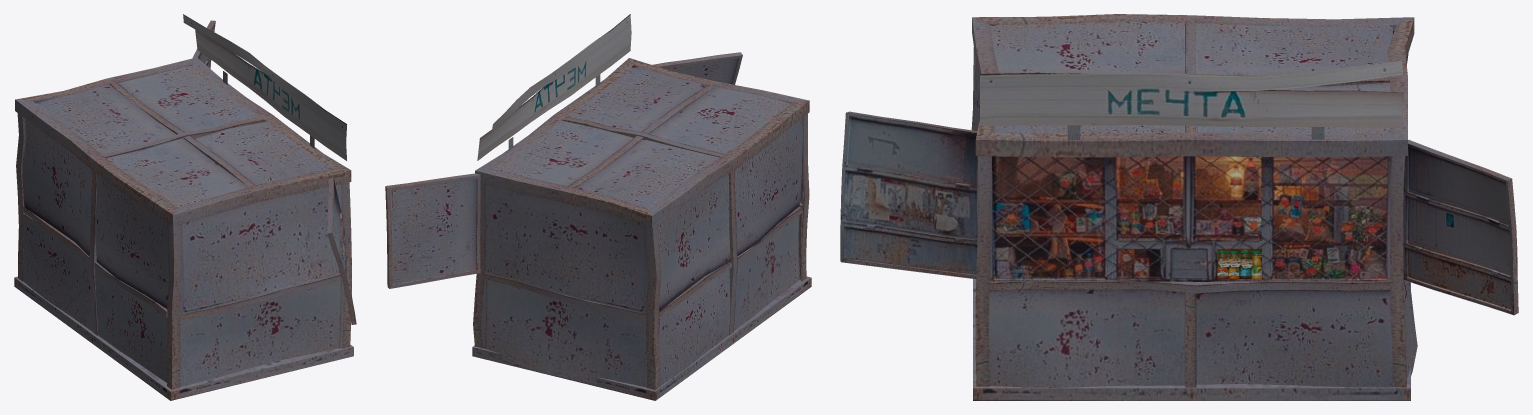
File: larek_a.fbx
3 renders of one model, left to right at view 1: azimuth 30°, elevation 25°; view 2: azimuth 150°, elevation 25°; view 3: azimuth 270°, elevation 25°, orthographic. The views are drawn at different scales.
Visible parts, largest first — view 1: Larek_a; view 2: Larek_a; view 3: Larek_a.
Part boxes in pixels (bbox=[...]): Larek_a: bbox=[14, 14, 356, 400]; Larek_a: bbox=[385, 14, 811, 400]; Larek_a: bbox=[840, 14, 1518, 400].
Bounding box in the file's own units: 2.72 × 2.56 × 4.8.
Materials: 1 (1 with a texture image).
